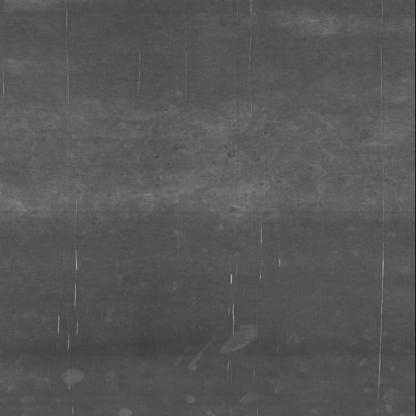waist_folding: (12, 146, 402, 394)
